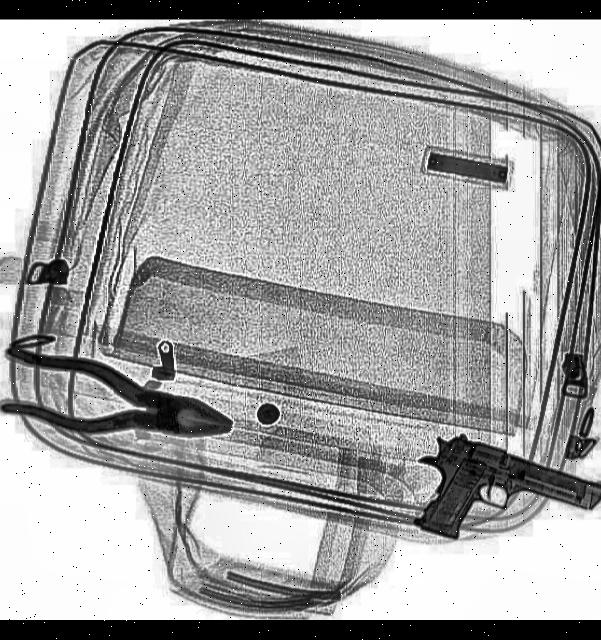Gun: (397, 425, 601, 580)
Pliers: (0, 340, 238, 462)
